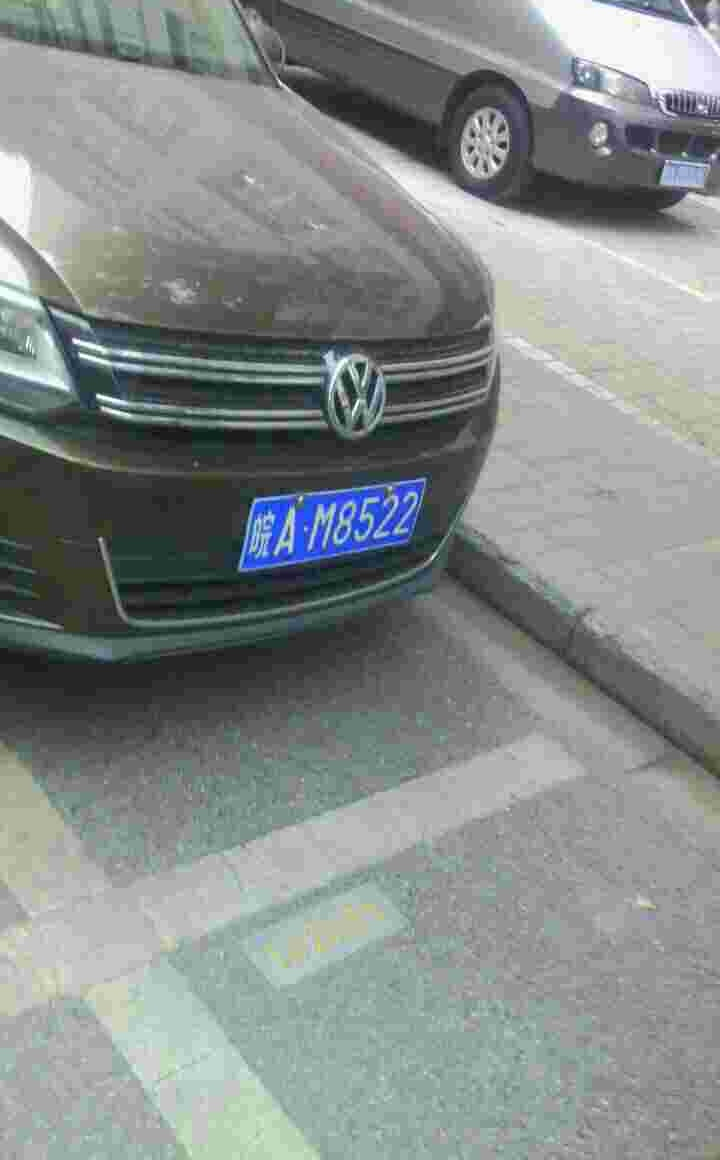license_plate: (245, 481, 421, 575)
